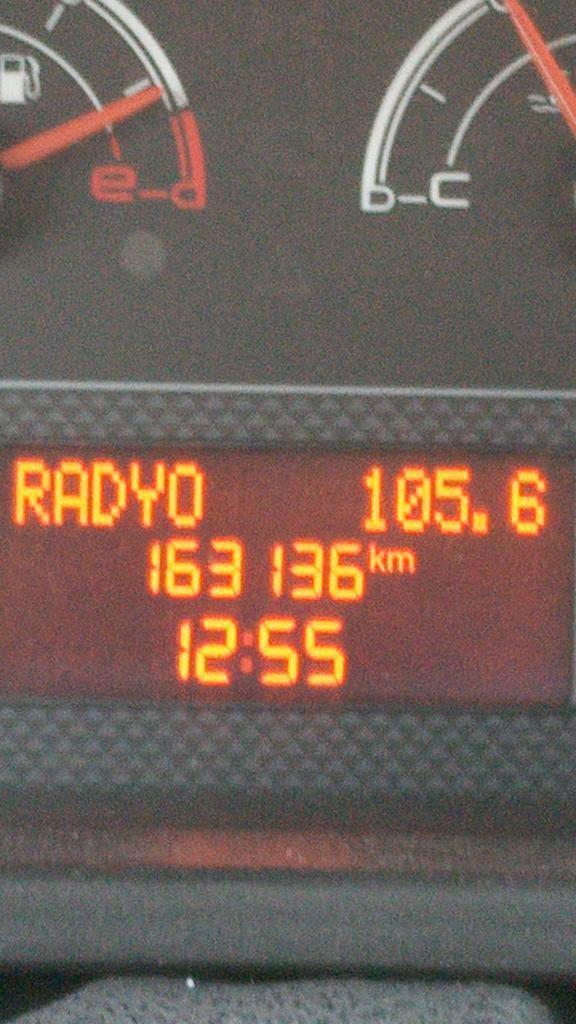,: (470, 506, 490, 537)
0: (394, 460, 434, 535)
1: (357, 460, 389, 532), (166, 614, 193, 685), (261, 538, 287, 597), (139, 536, 161, 597)
2: (193, 611, 238, 689)
3: (287, 534, 325, 605), (206, 531, 244, 602)
5: (299, 615, 347, 689), (258, 616, 298, 689), (433, 462, 470, 537)
6: (501, 464, 551, 538), (162, 532, 203, 600), (325, 536, 366, 602)
X: (9, 453, 52, 527), (50, 453, 89, 529), (90, 452, 128, 529), (166, 457, 205, 529), (128, 456, 166, 529), (385, 545, 417, 576), (238, 627, 255, 677), (367, 537, 385, 574)
odometer: (0, 435, 576, 724)
